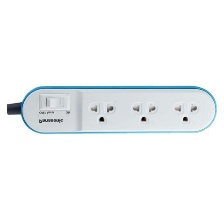three_eye_plug: (17, 83, 218, 136)
